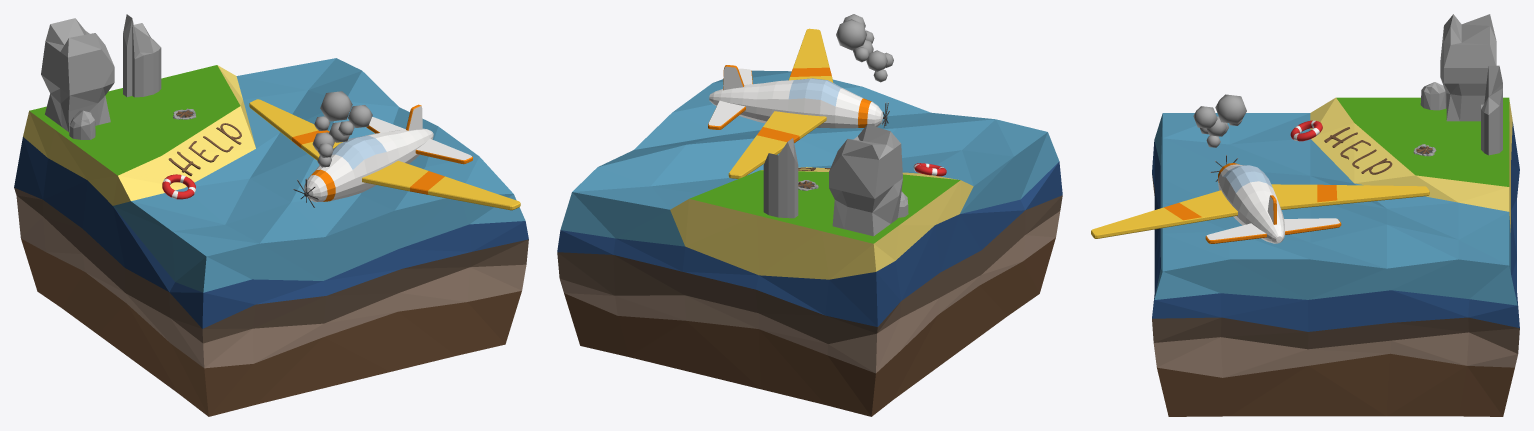
The model's file is Island_14.fbx.
The picture shows the model from 3 angles, left to right: view 1: azimuth 30°, elevation 25°; view 2: azimuth 150°, elevation 25°; view 3: azimuth 270°, elevation 25°; orthographic projection. The views are drawn at different scales.
Visible parts, largest first — view 1: Isl_14_Base, Isl_14_Plane, Isl_14_Stone_2, Isl_14_Stone_3, Isl_14_Smoke, Isl_14_Stone_1, Isl_14_Sign_Help, Isl_14_Lifebuoy; view 2: Isl_14_Base, Isl_14_Plane, Isl_14_Stone_2, Isl_14_Stone_3, Isl_14_Smoke; view 3: Isl_14_Base, Isl_14_Plane, Isl_14_Stone_2, Isl_14_Stone_3, Isl_14_Smoke, Isl_14_Stone_1, Isl_14_Sign_Help, Isl_14_Lifebuoy.
Part boxes in pixels (<box>): Isl_14_Base: <box>14,58,528,416</box>; Isl_14_Plane: <box>249,99,520,210</box>; Isl_14_Stone_2: <box>41,18,114,132</box>; Isl_14_Stone_3: <box>123,14,161,97</box>; Isl_14_Smoke: <box>312,91,372,167</box>; Isl_14_Stone_1: <box>69,110,95,139</box>; Isl_14_Sign_Help: <box>168,123,241,175</box>; Isl_14_Lifebuoy: <box>162,174,195,199</box>; Isl_14_Base: <box>557,70,1062,416</box>; Isl_14_Plane: <box>708,28,889,178</box>; Isl_14_Stone_2: <box>829,124,902,236</box>; Isl_14_Stone_3: <box>763,138,798,218</box>; Isl_14_Smoke: <box>836,14,893,82</box>; Isl_14_Base: <box>1152,97,1519,416</box>; Isl_14_Plane: <box>1091,155,1429,243</box>; Isl_14_Stone_2: <box>1440,14,1496,121</box>; Isl_14_Stone_3: <box>1481,65,1502,155</box>; Isl_14_Smoke: <box>1193,94,1246,147</box>; Isl_14_Stone_1: <box>1420,82,1446,110</box>; Isl_14_Sign_Help: <box>1324,127,1392,174</box>; Isl_14_Lifebuoy: <box>1290,120,1322,141</box>.
Size of the model in its own units: 2125 by 2476 by 1685.
